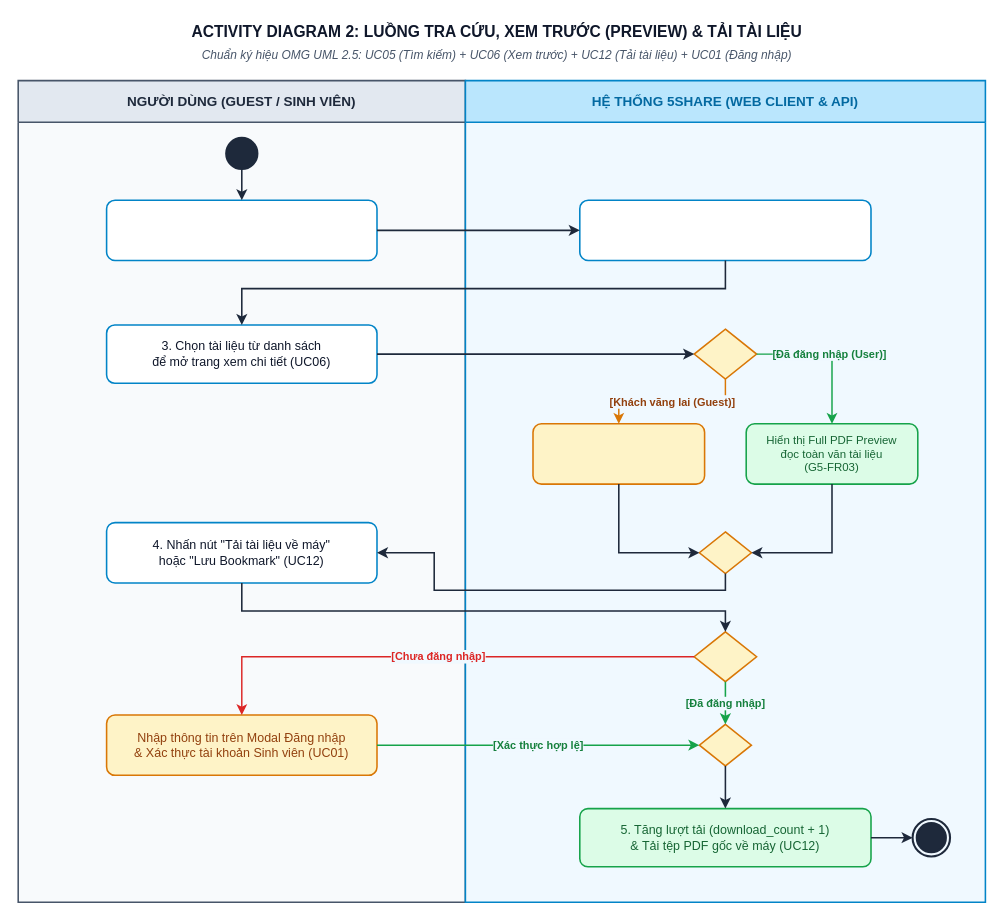
Some shapes in this 1005 by 920 pixel diagram are drawn without their labels. The centre of each missing label's shape, as x and y in pixels:
1. Nhập từ khóa tìm kiếm & Chọn bộ lọc môn học / học kỳ (UC05): (x=241, y=230)
2. Truy vấn FTS CSDL (status = APPROVED) & Trả về danh sách tài liệu công khai: (x=725, y=230)
Hiển thị Preview giới hạn tối đa 3 trang đầu (G5-FR02): (x=618, y=453)
